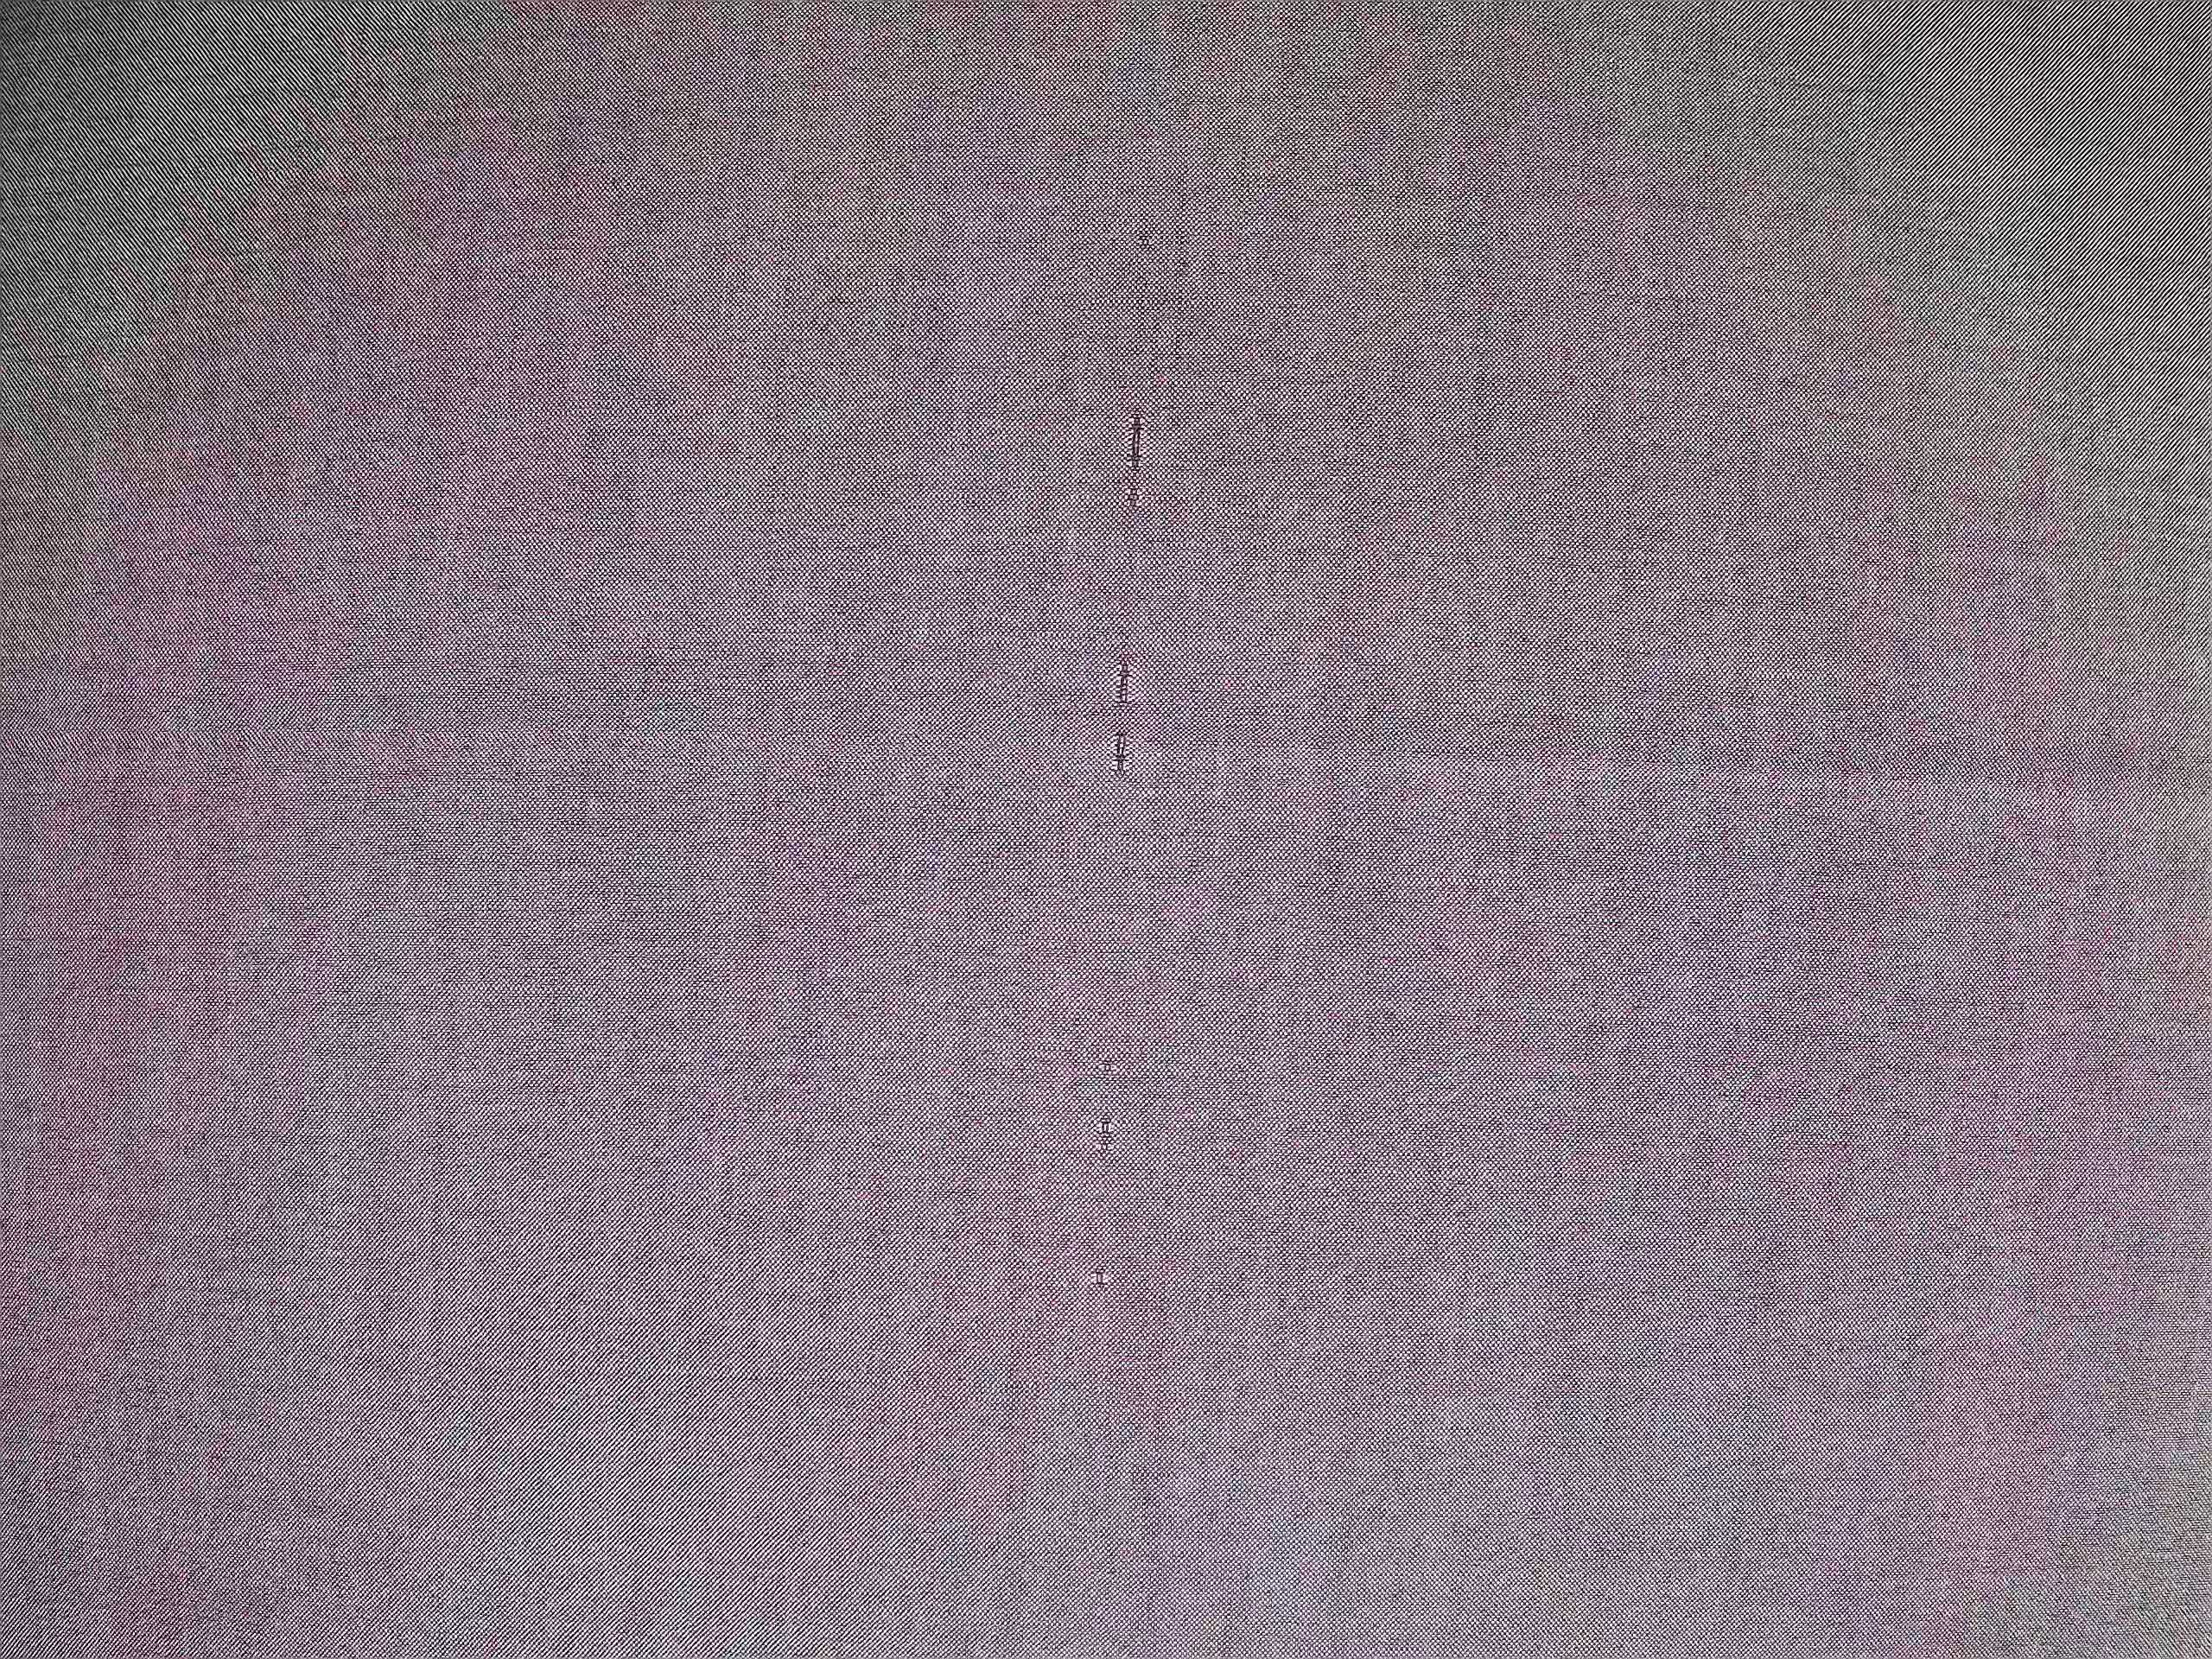jumps: (1092, 403, 1172, 793), (1064, 1040, 1137, 1309)
